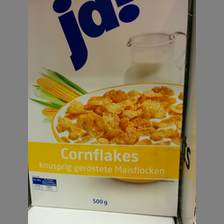cereal: (27, 1, 189, 219)
